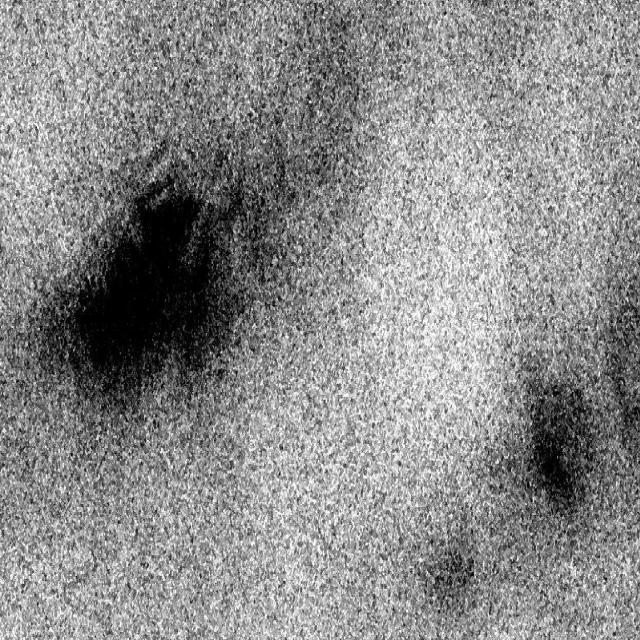look-alike: (29, 126, 299, 432), (493, 353, 638, 539), (307, 40, 363, 208), (423, 533, 480, 614)
